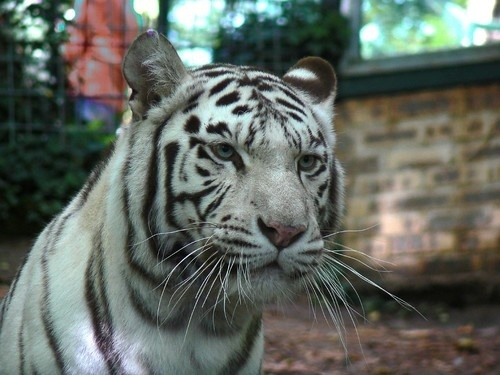tigre: (1, 32, 348, 372)
